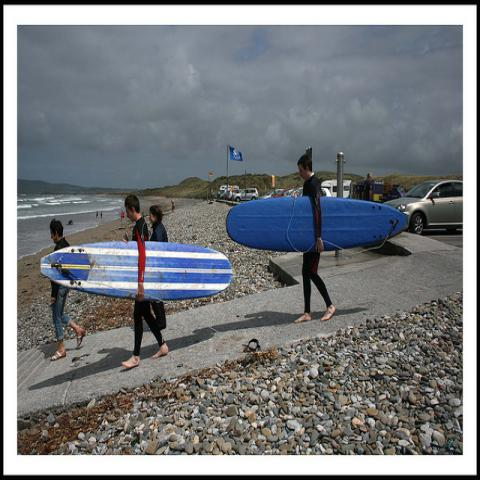car: (381, 178, 463, 232), (320, 178, 352, 198), (233, 187, 260, 203), (292, 187, 332, 197), (270, 188, 296, 198), (259, 189, 283, 199), (222, 194, 227, 200)
